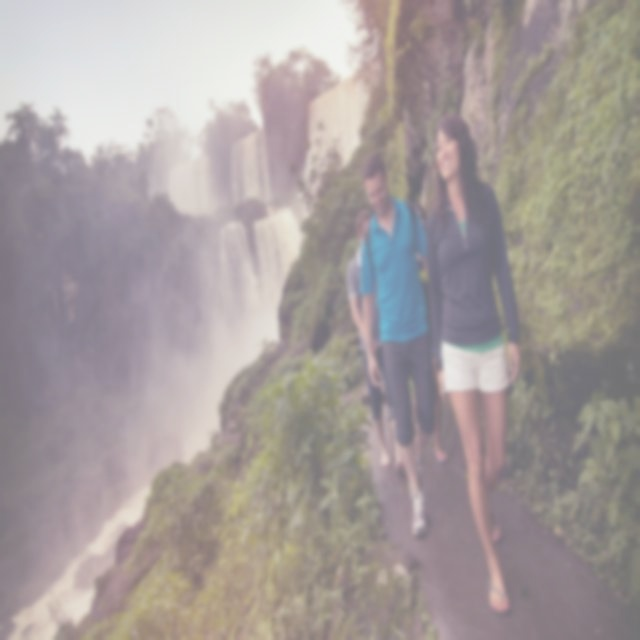pessoa: (422, 110, 526, 620), (360, 151, 430, 537), (346, 207, 406, 471), (413, 202, 449, 466)
